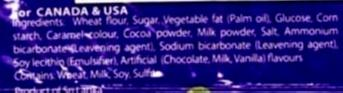ingredients: (8, 3, 343, 83)
